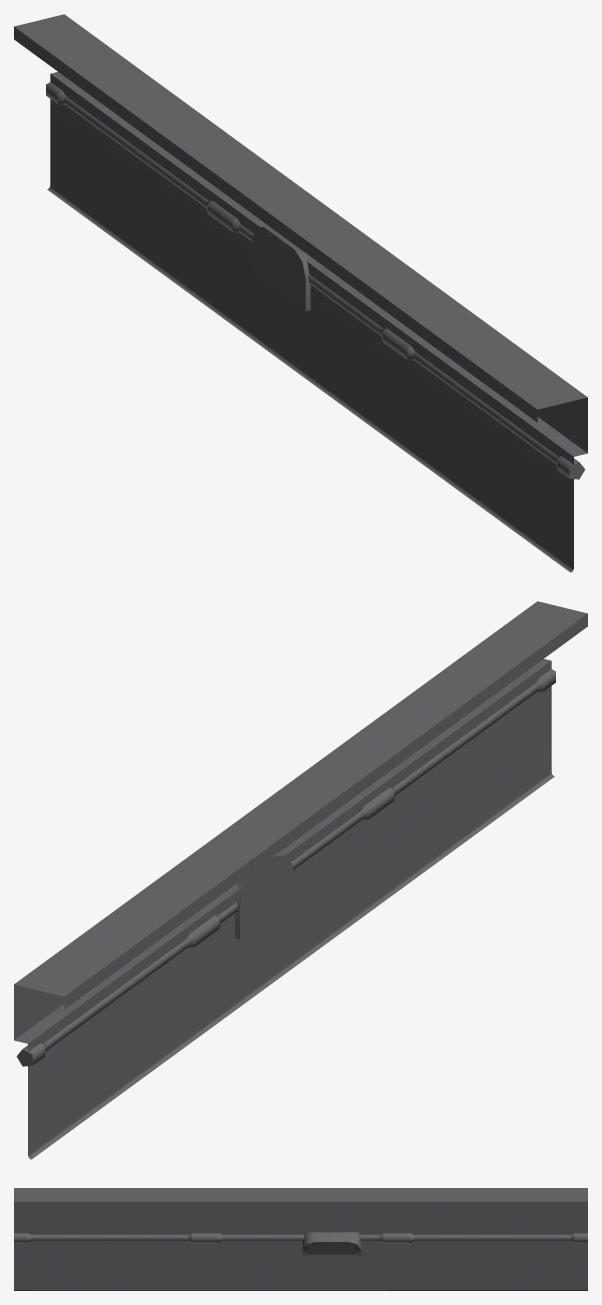
File: SM_walkway_trim_b_600.fbx
3 renders of one model, top to bottom at view 1: azimuth 30°, elevation 25°; view 2: azimuth 150°, elevation 25°; view 3: azimuth 270°, elevation 25°, orthographic. The views are drawn at different scales.
Visible parts, largest first — view 1: pCube17; view 2: pCube17; view 3: pCube17.
Boxes of the visible parts, bbox=[...] form: pCube17: bbox=[14, 14, 587, 572]; pCube17: bbox=[14, 601, 587, 1159]; pCube17: bbox=[14, 1188, 587, 1290].
Bounding box in the file's own units: 0.4448 × 1.08 × 6.
